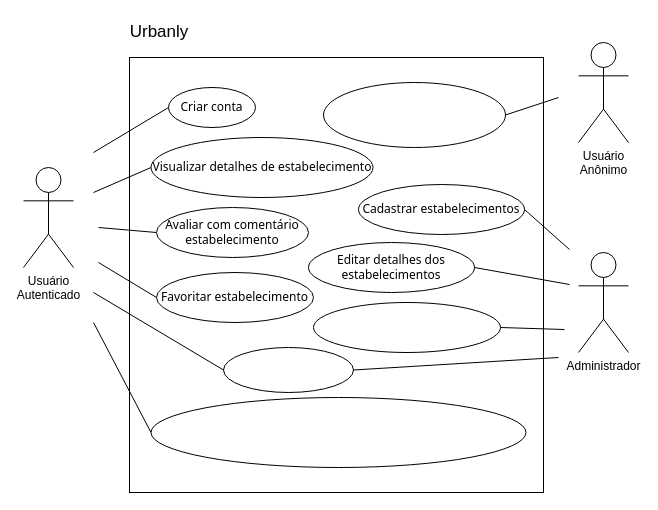
Image size: 658x510. Some labels were removed from this diagram. Each missing label, with the centre of its shape:
"Autenticar" goes at [288,369].
"Buscar estabelecimentos por palavra-chave" goes at [414,115].
"Buscar estabelecimentos por palavra-chave, localização e interesses" goes at [338,432].
"Moderar comentários sobre estabelecimentos" goes at [406,327].
